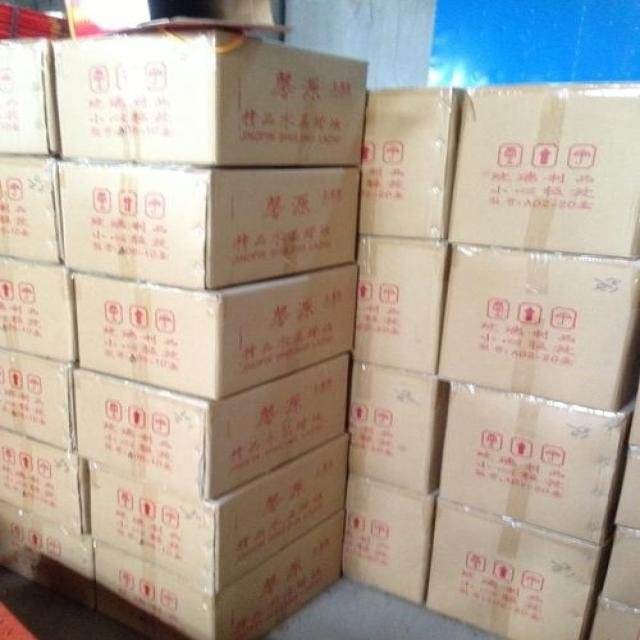box: (55, 31, 370, 167), (90, 432, 348, 596), (74, 351, 348, 502), (61, 156, 362, 291), (72, 263, 357, 400), (436, 243, 640, 415), (449, 79, 640, 258), (92, 510, 347, 640), (436, 383, 635, 543), (424, 499, 614, 639), (362, 86, 462, 240), (351, 236, 451, 374), (348, 362, 451, 494), (346, 471, 439, 607), (0, 502, 95, 612), (0, 430, 88, 537), (0, 258, 74, 364), (0, 347, 72, 453), (0, 37, 60, 154), (0, 154, 63, 263), (600, 526, 640, 609), (613, 445, 640, 531), (585, 598, 640, 640), (628, 382, 640, 447)
